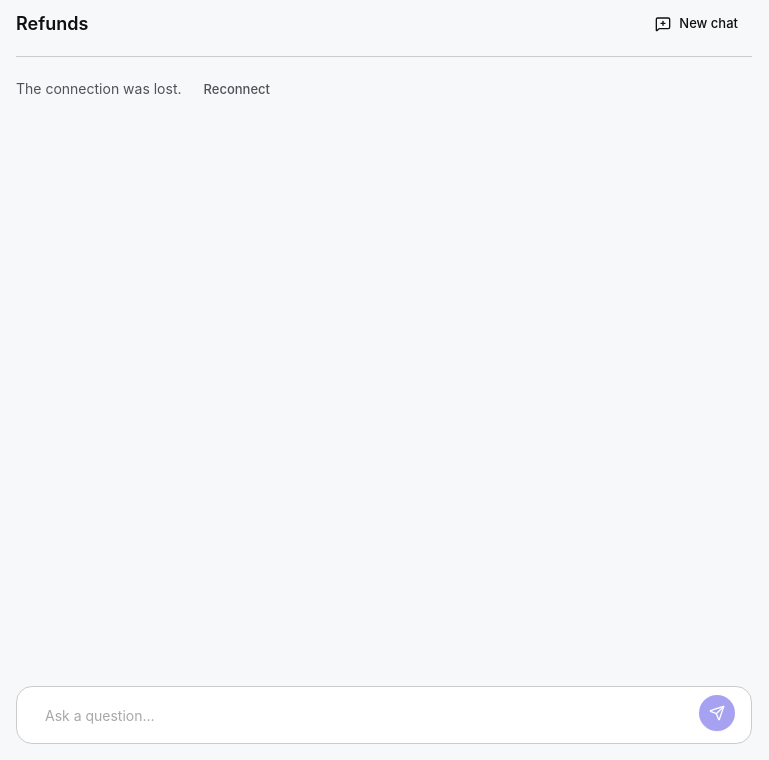
Test case: the hosted page › says the connection was lost on an abnormal close, and disables the composer
The image size is (769, 760).
Expected: the text "The connection was lost." is shown, [16, 79, 182, 99]
Expected: the field is disabled, [33, 695, 691, 735]
Click the button "Reconnect" at [237, 89], box [190, 73, 284, 105]
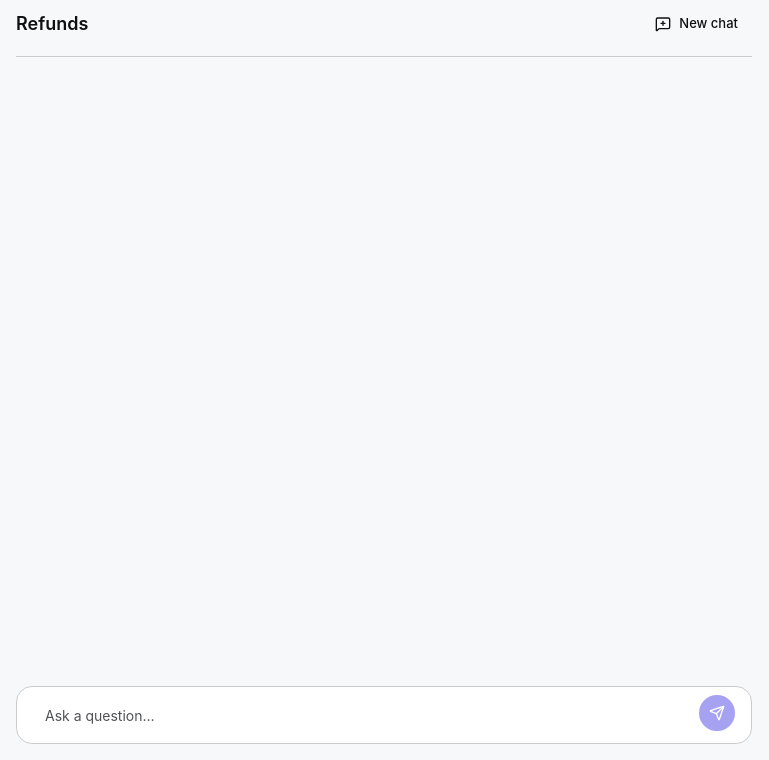
Expected: the field is enabled, [33, 695, 691, 735]
